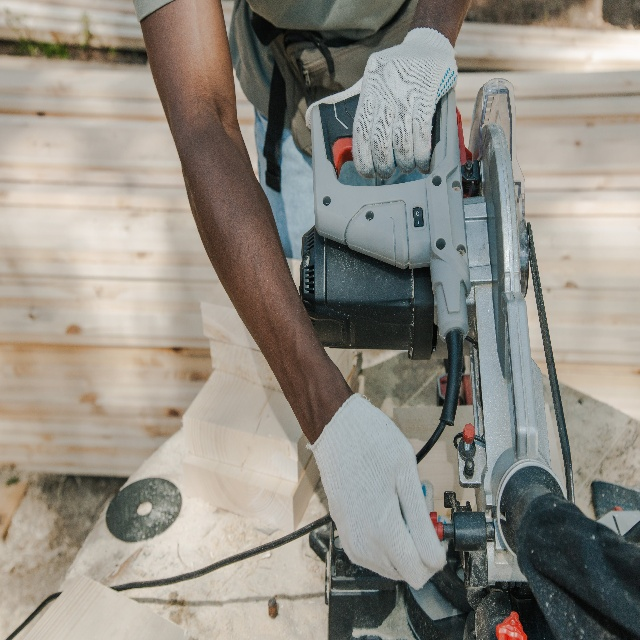Guantes: (318, 389, 442, 594), (347, 31, 458, 174)
